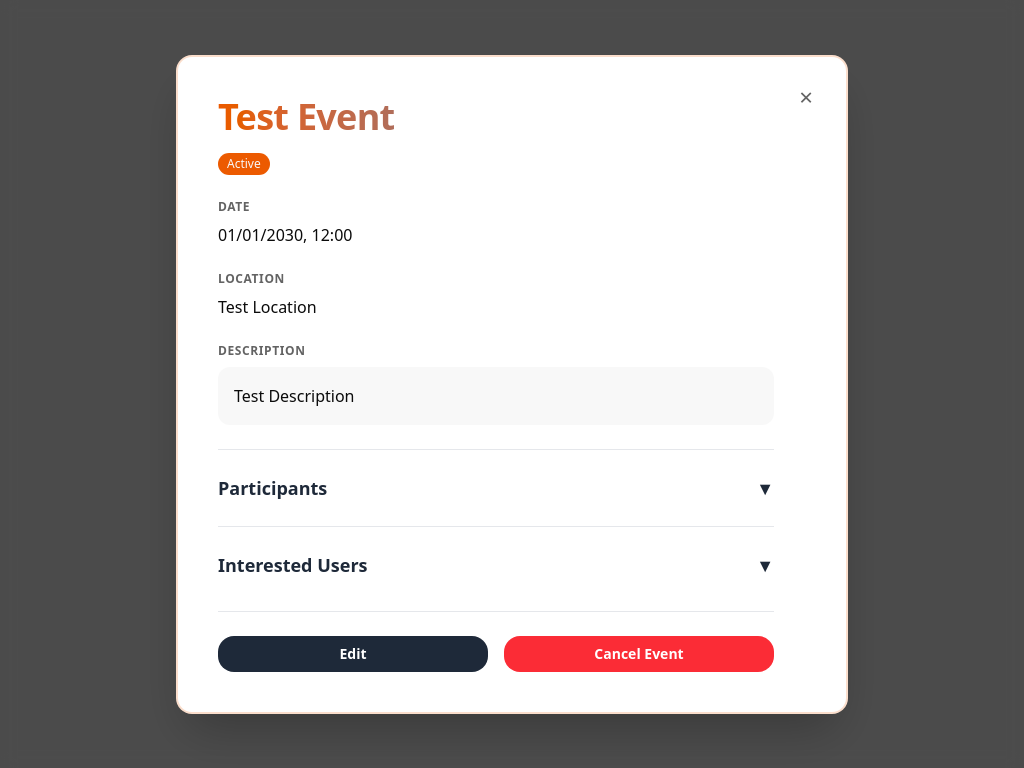
Test case: EventModal Cancel/Reactivate Functionality › Reactivate event and shows Cancel Event agains
Click the button "Cancel Event".
click(639, 654)  # box [504, 636, 774, 672]
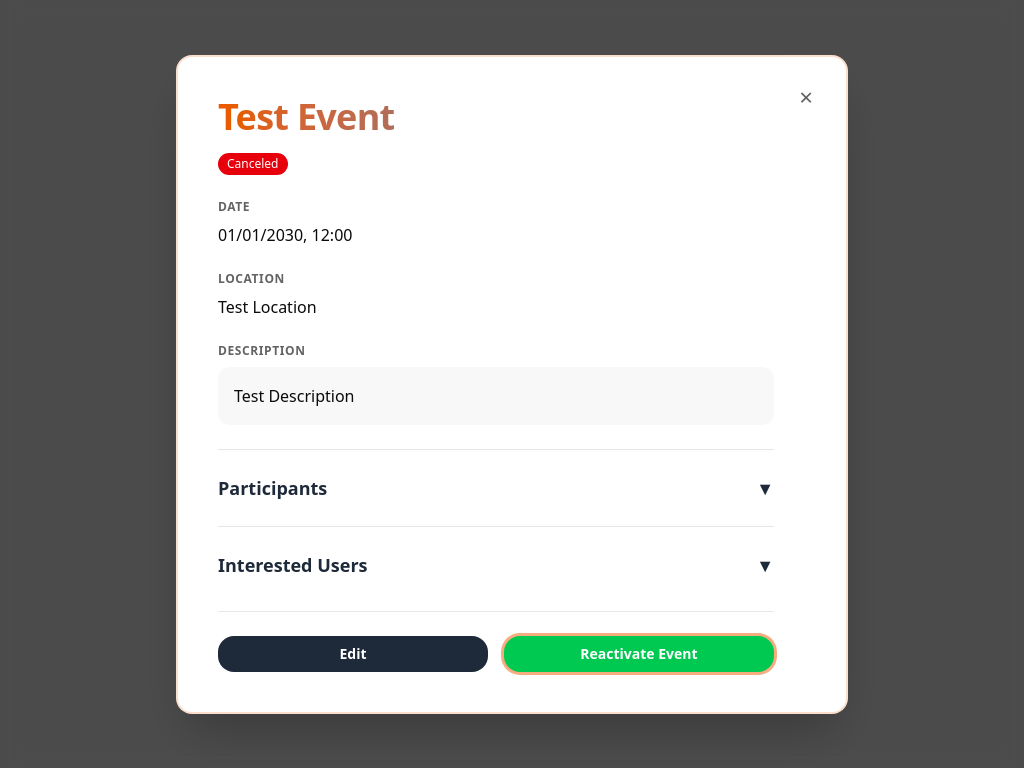
Click the button "Reactivate Event".
click(639, 654)  # box [504, 636, 774, 672]
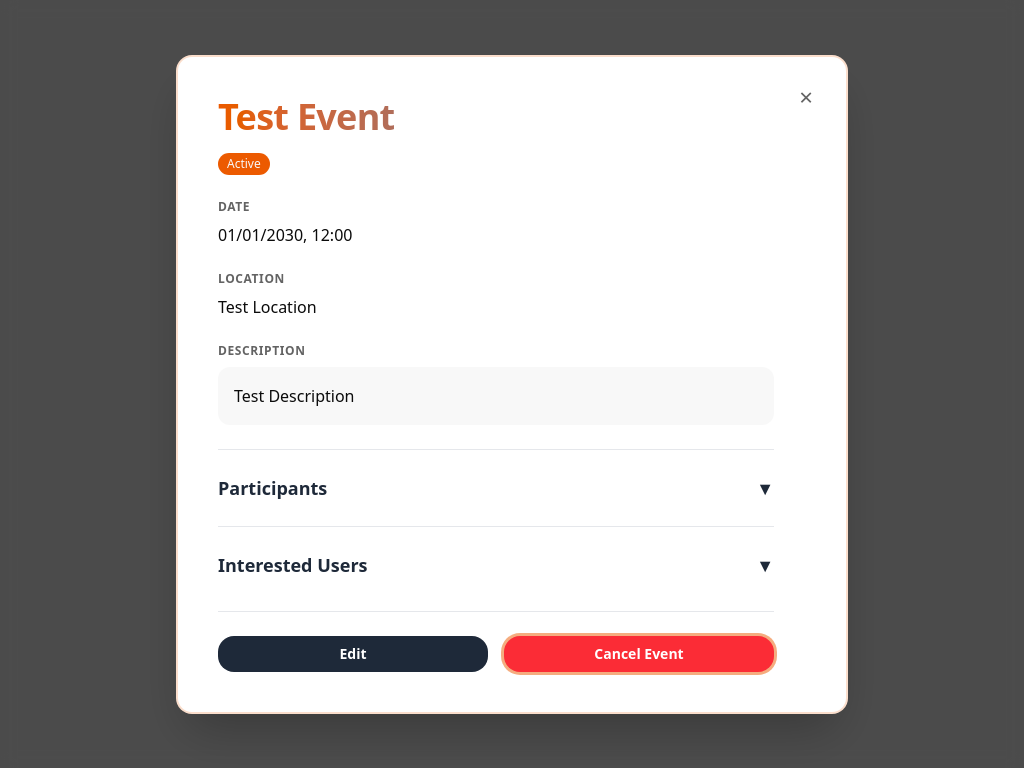
Result: the button "Cancel Event" is shown at [504, 636, 774, 672]
Result: the text "Canceled" is gone
